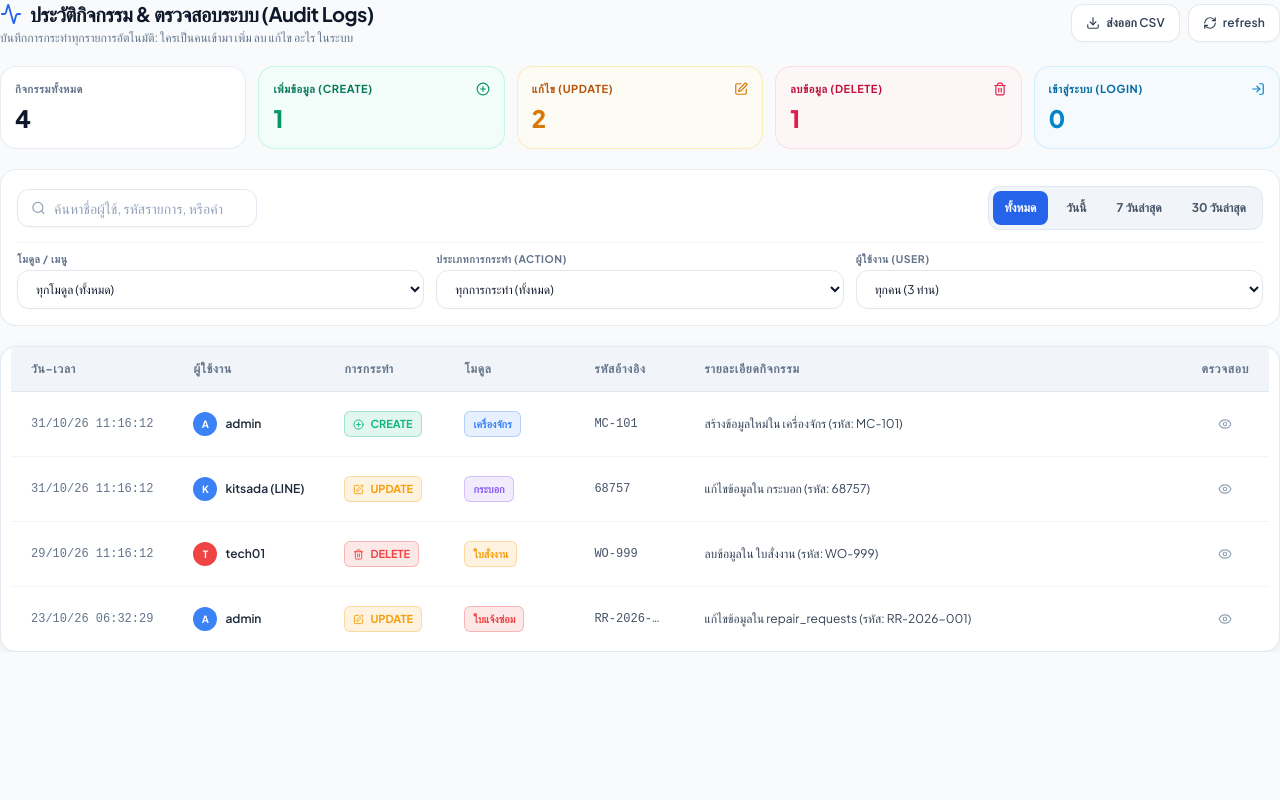
Test case: Logs - Enterprise Audit Log System › displays Thai field labels, module name, and formatted status badges in modal for repair requests
Click the text "RR-2026-001" at [629, 619], box top-left (574, 587), bottom-right (684, 651)
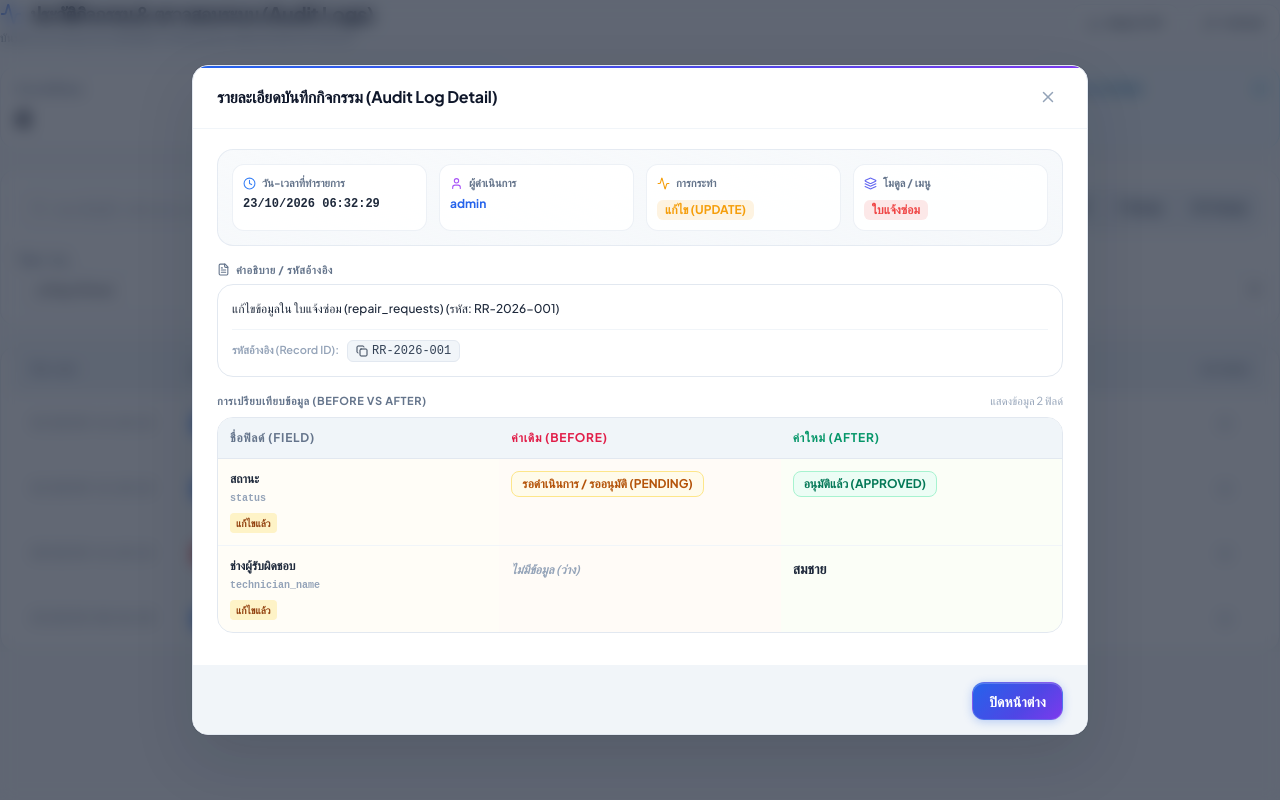
Result: the heading "รายละเอียดบันทึกกิจกรรม (Audit Log Detail)" is shown at top-left (217, 85), bottom-right (498, 109)
Result: the text "สถานะ" is shown at top-left (230, 471), bottom-right (259, 486)
Result: the text "ช่างผู้รับผิดชอบ" is shown at top-left (230, 558), bottom-right (295, 573)
